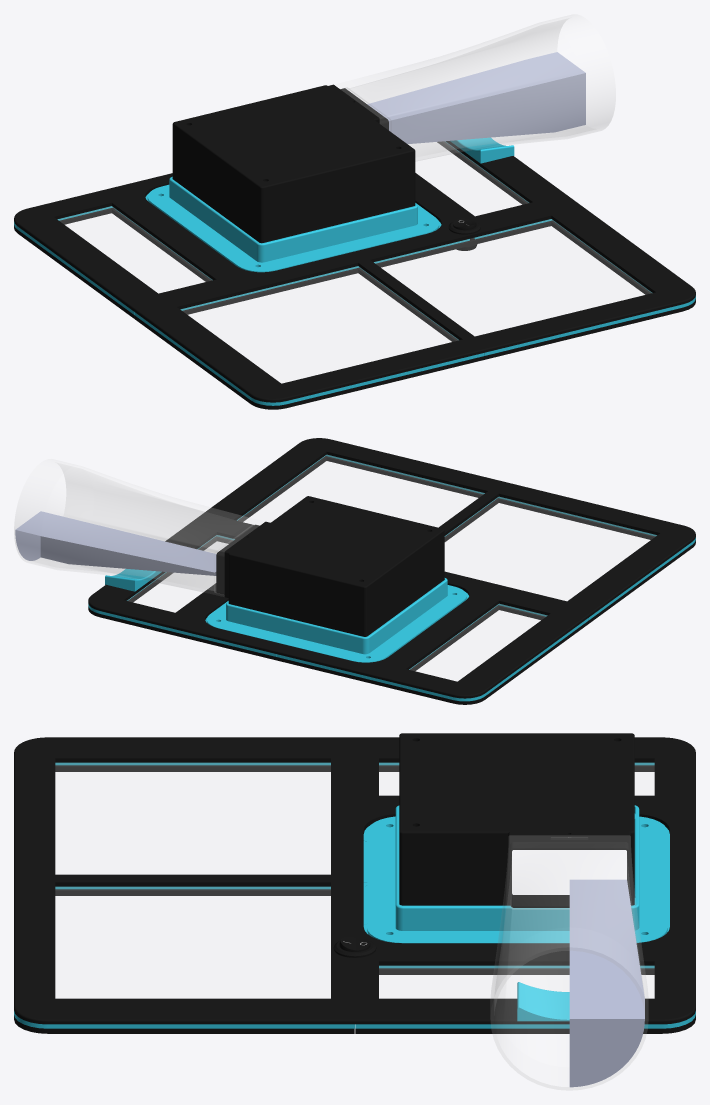
File: ExLidExplo.glb
3 views of the same model, one above another, from view 1: azimuth 30°, elevation 25°; view 2: azimuth 150°, elevation 25°; view 3: azimuth 270°, elevation 25° (orthographic). The views are drawn at different scales.
Parts seen in each view (by area): view 1: Box-1, Funnel-1, 150x150-2, 150x150-1, 1BL-1, 1TL-1, 1BR-1, Joint-1, 50x150-2, 1TR-1, 50x150-1, 3BL-1 (+6 smaller); view 2: Box-1, Funnel-1, 150x150-2, 1TL-1, 150x150-1, 1BL-1, Joint-1, 1BR-1, 1TR-1, 50x150-2, 3TL-1, 3BL-1 (+8 smaller); view 3: Box-1, Funnel-1, 150x150-1, 150x150-2, 1BR-1, 1BL-1, 1TR-1, Joint-1, 1TL-1, 50x150-1, 3BR-1, 3TR-1 (+8 smaller).
Part boxes in pixels (x1=…): Box-1: x1=172, y1=84, x2=415, y2=243; Funnel-1: x1=335, y1=15, x2=615, y2=160; 150x150-2: x1=181, y1=266, x2=457, y2=382; 150x150-1: x1=374, y1=219, x2=651, y2=335; 1BL-1: x1=134, y1=254, x2=484, y2=402; 1TL-1: x1=14, y1=173, x2=354, y2=311; 1BR-1: x1=355, y1=201, x2=695, y2=352; Joint-1: x1=147, y1=176, x2=439, y2=272; 50x150-2: x1=58, y1=206, x2=211, y2=292; 1TR-1: x1=352, y1=141, x2=574, y2=254; 50x150-1: x1=416, y1=150, x2=528, y2=215; 3BL-1: x1=134, y1=267, x2=484, y2=409; Box-1: x1=216, y1=496, x2=444, y2=636; Funnel-1: x1=14, y1=459, x2=263, y2=596; 150x150-2: x1=445, y1=497, x2=656, y2=600; 1TL-1: x1=276, y1=580, x2=588, y2=698; 150x150-1: x1=237, y1=455, x2=484, y2=526; 1BL-1: x1=444, y1=482, x2=695, y2=616; Joint-1: x1=206, y1=578, x2=466, y2=662; 1BR-1: x1=196, y1=438, x2=506, y2=530; 1TR-1: x1=88, y1=519, x2=284, y2=653; 50x150-2: x1=409, y1=604, x2=546, y2=680; 3TL-1: x1=276, y1=605, x2=588, y2=704; 3BL-1: x1=444, y1=498, x2=695, y2=623; Box-1: x1=399, y1=733, x2=634, y2=907; Funnel-1: x1=491, y1=836, x2=647, y2=1089; 150x150-1: x1=56, y1=887, x2=330, y2=997; 150x150-2: x1=56, y1=763, x2=330, y2=873; 1BR-1: x1=14, y1=878, x2=354, y2=1024; 1BL-1: x1=14, y1=737, x2=354, y2=879; 1TR-1: x1=355, y1=878, x2=695, y2=1024; Joint-1: x1=367, y1=805, x2=667, y2=943; 1TL-1: x1=355, y1=737, x2=695, y2=879; 50x150-1: x1=379, y1=966, x2=653, y2=997; 3BR-1: x1=14, y1=889, x2=354, y2=1033; 3TR-1: x1=355, y1=968, x2=695, y2=1033.
Size of the model in its own units: 0.43 by 0.0912 by 0.362.
